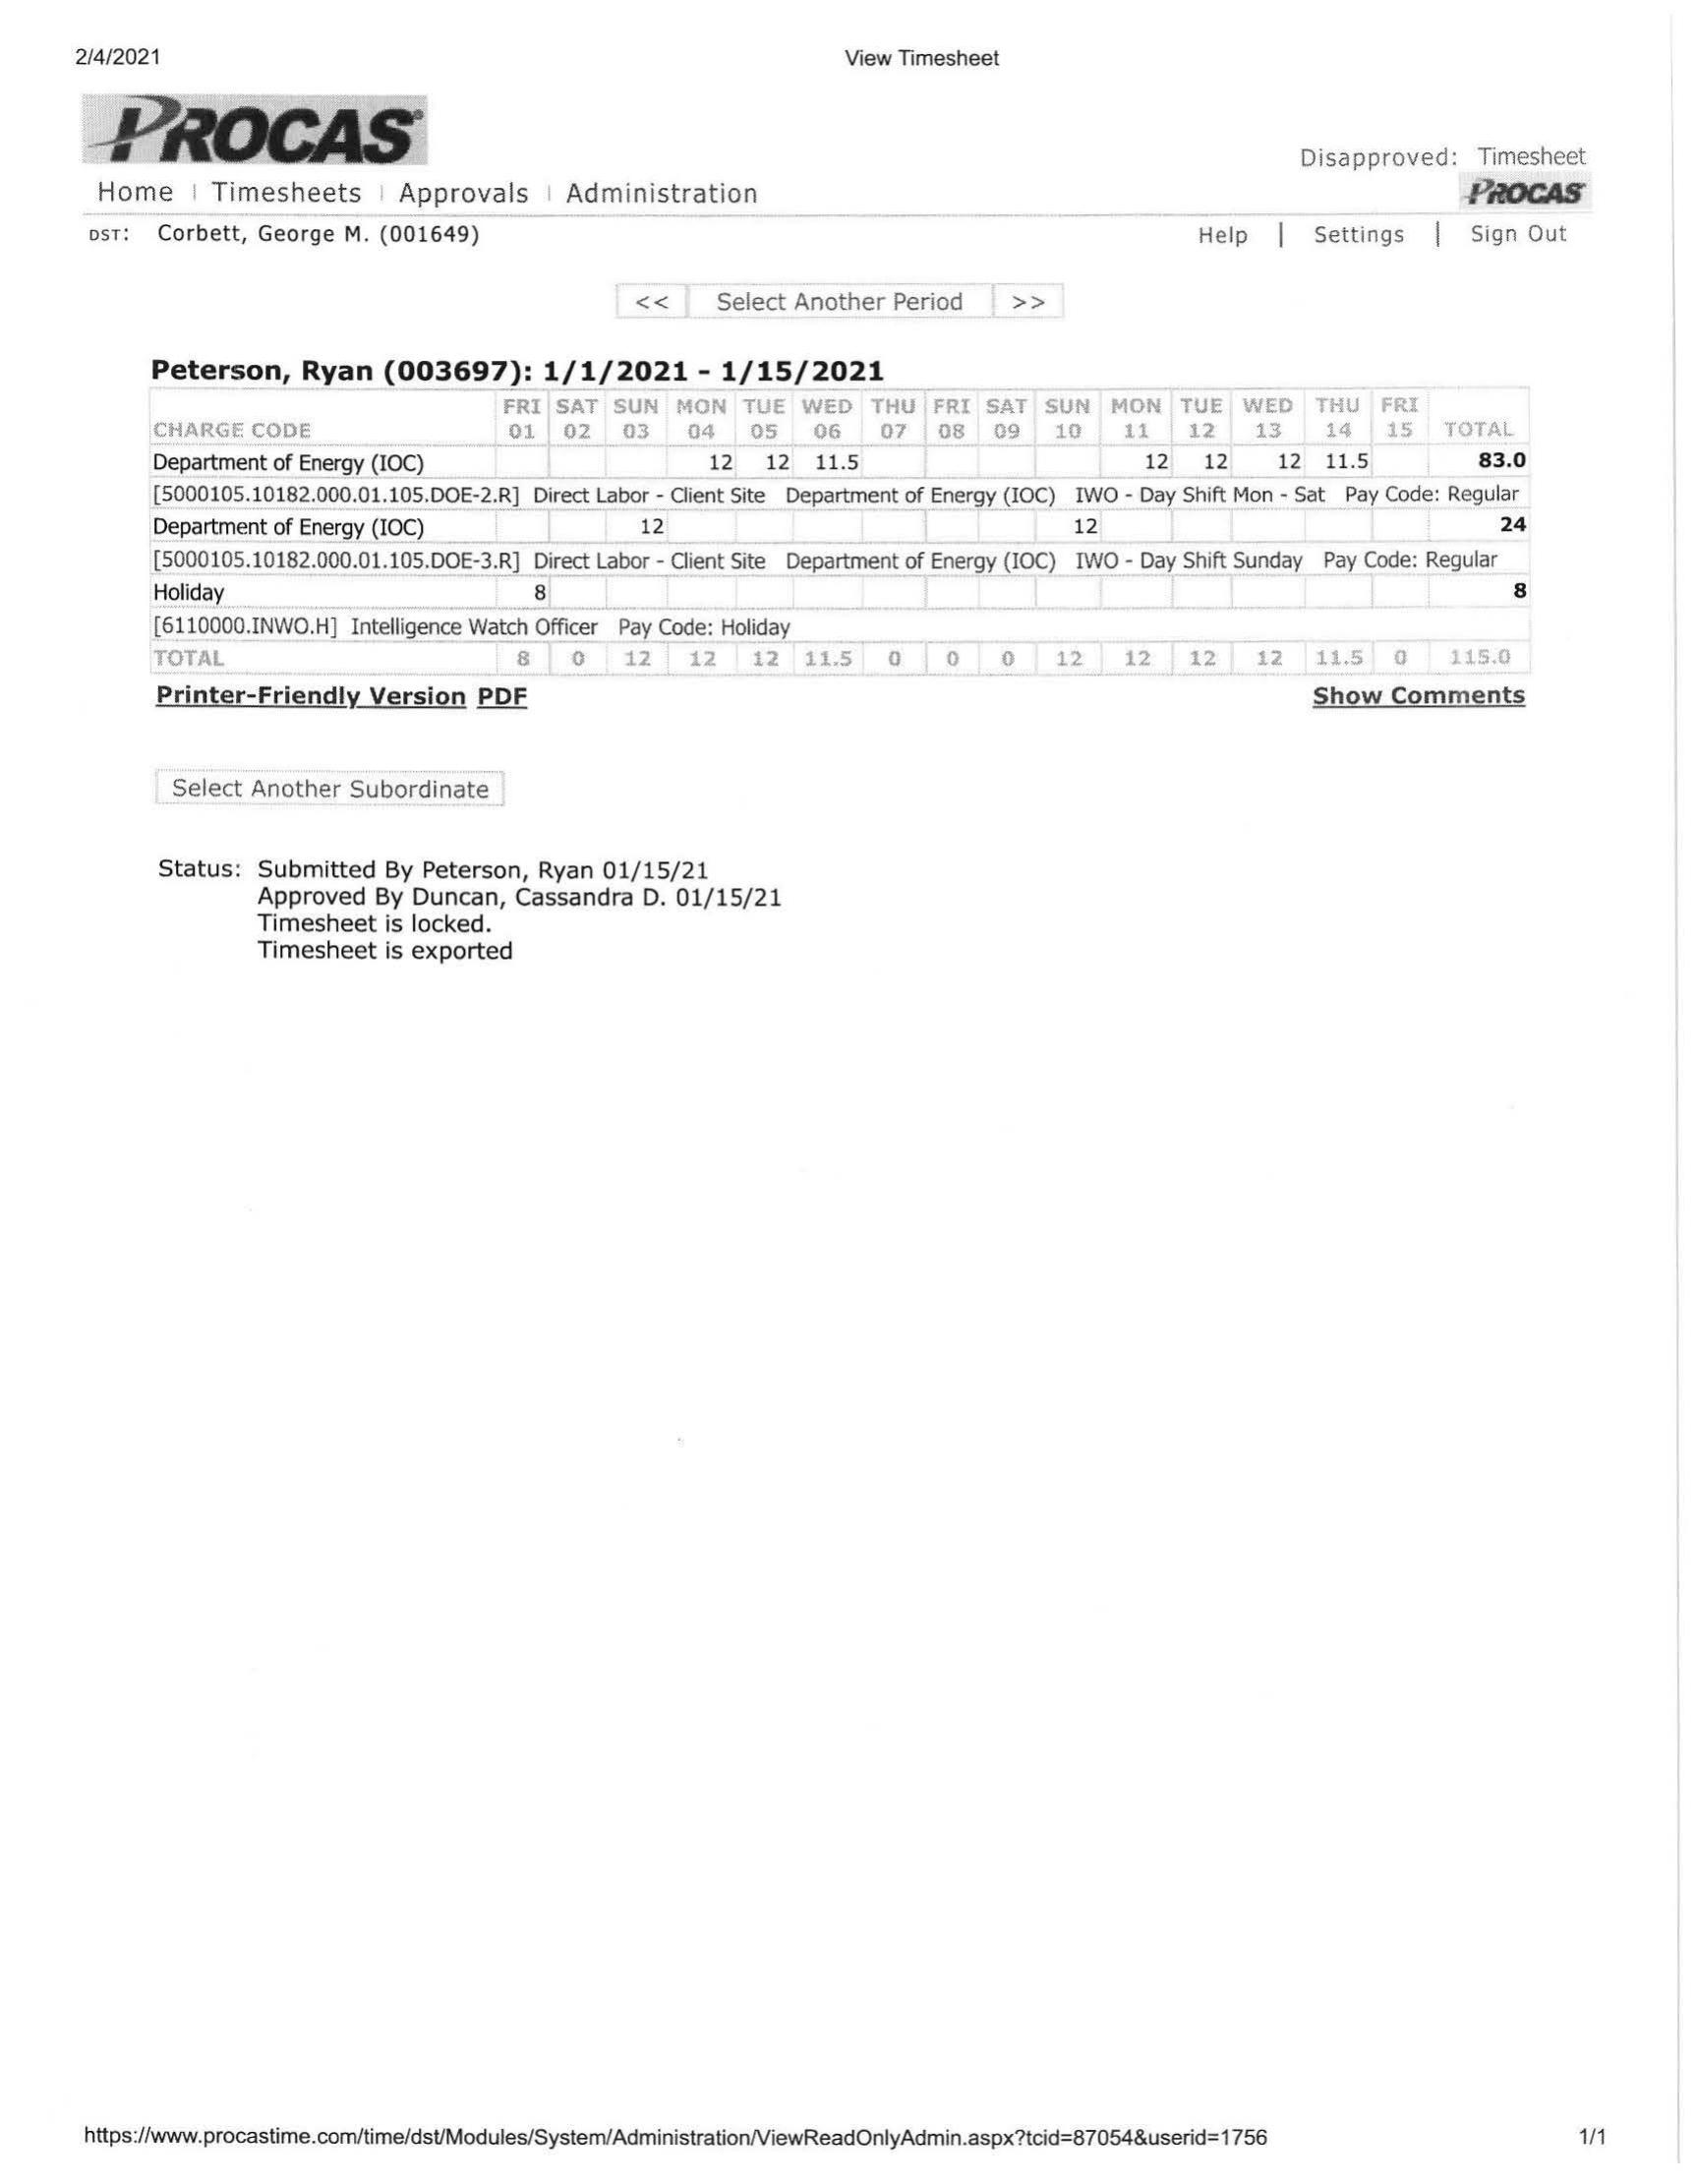table: (138, 381, 1542, 679)
